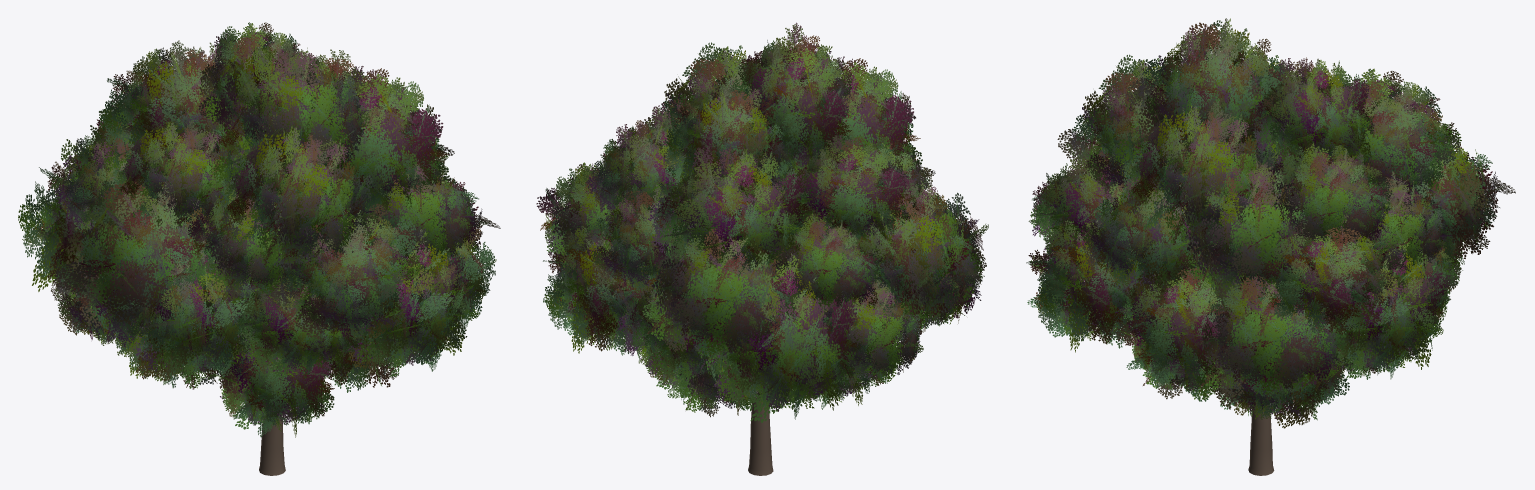
Rendered from tree_medium_broad_clustered_canopy.glb.
The picture shows the model from 3 angles, left to right: view 1: azimuth 30°, elevation 25°; view 2: azimuth 150°, elevation 25°; view 3: azimuth 270°, elevation 25°; orthographic projection. The views are drawn at different scales.
Visible parts, largest first — view 1: Camphor_Foliage_OldCrownGroup_27, Camphor_Foliage_OldCrownGroup_19, Camphor_Foliage_OldCrownGroup_30, Camphor_Foliage_OldCrownGroup_21, Camphor_Foliage_OldCrownGroup_11, Camphor_Foliage_OldCrownGroup_28, Camphor_Foliage_OldCrownGroup_13, Camphor_Foliage_OldCrownGroup_26, Camphor_Foliage_OldCrownGroup_25, Camphor_Foliage_OldCrownGroup_04, Camphor_Foliage_OldCrownGroup_12, Camphor_Foliage_OldCrownGroup_20 (+12 smaller); view 2: Camphor_Foliage_OldCrownGroup_09, Camphor_Foliage_OldCrownGroup_25, Camphor_Foliage_OldCrownGroup_17, Camphor_Foliage_OldCrownGroup_19, Camphor_Foliage_OldCrownGroup_30, Camphor_Foliage_OldCrownGroup_26, Camphor_Foliage_OldCrownGroup_29, Camphor_Foliage_OldCrownGroup_07, Camphor_Foliage_OldCrownGroup_18, Camphor_Foliage_OldCrownGroup_24, Camphor_Foliage_OldCrownGroup_27, Camphor_Foliage_OldCrownGroup_10 (+10 smaller); view 3: Camphor_Foliage_OldCrownGroup_28, Camphor_Foliage_OldCrownGroup_30, Camphor_Foliage_OldCrownGroup_06, Camphor_Foliage_OldCrownGroup_15, Camphor_Foliage_OldCrownGroup_23, Camphor_Foliage_OldCrownGroup_29, Camphor_Foliage_OldCrownGroup_24, Camphor_Foliage_OldCrownGroup_25, Camphor_Foliage_OldCrownGroup_14, Camphor_Foliage_OldCrownGroup_07, Camphor_Foliage_OldCrownGroup_13, Camphor_Foliage_OldCrownGroup_22 (+8 smaller).
Boxes of the visible parts, left/top/right/bottom form: Camphor_Foliage_OldCrownGroup_27: left=212, top=125, right=378, bottom=273; Camphor_Foliage_OldCrownGroup_19: left=54, top=180, right=222, bottom=333; Camphor_Foliage_OldCrownGroup_30: left=205, top=39, right=370, bottom=182; Camphor_Foliage_OldCrownGroup_21: left=264, top=203, right=426, bottom=340; Camphor_Foliage_OldCrownGroup_11: left=89, top=236, right=260, bottom=384; Camphor_Foliage_OldCrownGroup_28: left=308, top=66, right=449, bottom=219; Camphor_Foliage_OldCrownGroup_13: left=340, top=223, right=479, bottom=377; Camphor_Foliage_OldCrownGroup_26: left=104, top=120, right=241, bottom=232; Camphor_Foliage_OldCrownGroup_25: left=101, top=40, right=233, bottom=157; Camphor_Foliage_OldCrownGroup_04: left=214, top=340, right=334, bottom=437; Camphor_Foliage_OldCrownGroup_12: left=233, top=277, right=360, bottom=377; Camphor_Foliage_OldCrownGroup_20: left=188, top=190, right=306, bottom=297; Camphor_Foliage_OldCrownGroup_09: left=695, top=249, right=857, bottom=422; Camphor_Foliage_OldCrownGroup_25: left=648, top=145, right=808, bottom=282; Camphor_Foliage_OldCrownGroup_17: left=642, top=215, right=799, bottom=360; Camphor_Foliage_OldCrownGroup_19: left=843, top=180, right=988, bottom=334; Camphor_Foliage_OldCrownGroup_30: left=728, top=22, right=853, bottom=178; Camphor_Foliage_OldCrownGroup_26: left=783, top=135, right=916, bottom=244; Camphor_Foliage_OldCrownGroup_29: left=664, top=83, right=790, bottom=194; Camphor_Foliage_OldCrownGroup_07: left=543, top=215, right=656, bottom=355; Camphor_Foliage_OldCrownGroup_18: left=772, top=213, right=881, bottom=312; Camphor_Foliage_OldCrownGroup_24: left=582, top=118, right=683, bottom=225; Camphor_Foliage_OldCrownGroup_27: left=794, top=56, right=922, bottom=176; Camphor_Foliage_OldCrownGroup_10: left=824, top=274, right=923, bottom=386; Camphor_Foliage_OldCrownGroup_28: left=1115, top=101, right=1283, bottom=246; Camphor_Foliage_OldCrownGroup_30: left=1126, top=18, right=1289, bottom=158; Camphor_Foliage_OldCrownGroup_06: left=1194, top=273, right=1349, bottom=400; Camphor_Foliage_OldCrownGroup_15: left=1253, top=214, right=1407, bottom=334; Camphor_Foliage_OldCrownGroup_23: left=1165, top=153, right=1315, bottom=301; Camphor_Foliage_OldCrownGroup_29: left=1251, top=57, right=1374, bottom=175; Camphor_Foliage_OldCrownGroup_24: left=1266, top=143, right=1392, bottom=254; Camphor_Foliage_OldCrownGroup_25: left=1326, top=68, right=1461, bottom=205; Camphor_Foliage_OldCrownGroup_14: left=1115, top=260, right=1230, bottom=390; Camphor_Foliage_OldCrownGroup_07: left=1315, top=233, right=1450, bottom=379; Camphor_Foliage_OldCrownGroup_13: left=1026, top=200, right=1158, bottom=352; Camphor_Foliage_OldCrownGroup_22: left=1081, top=177, right=1221, bottom=301.
Bounding box in the file's own units: 13.72 × 13.51 × 13.59.
Materials: 2 (1 with a texture image).
